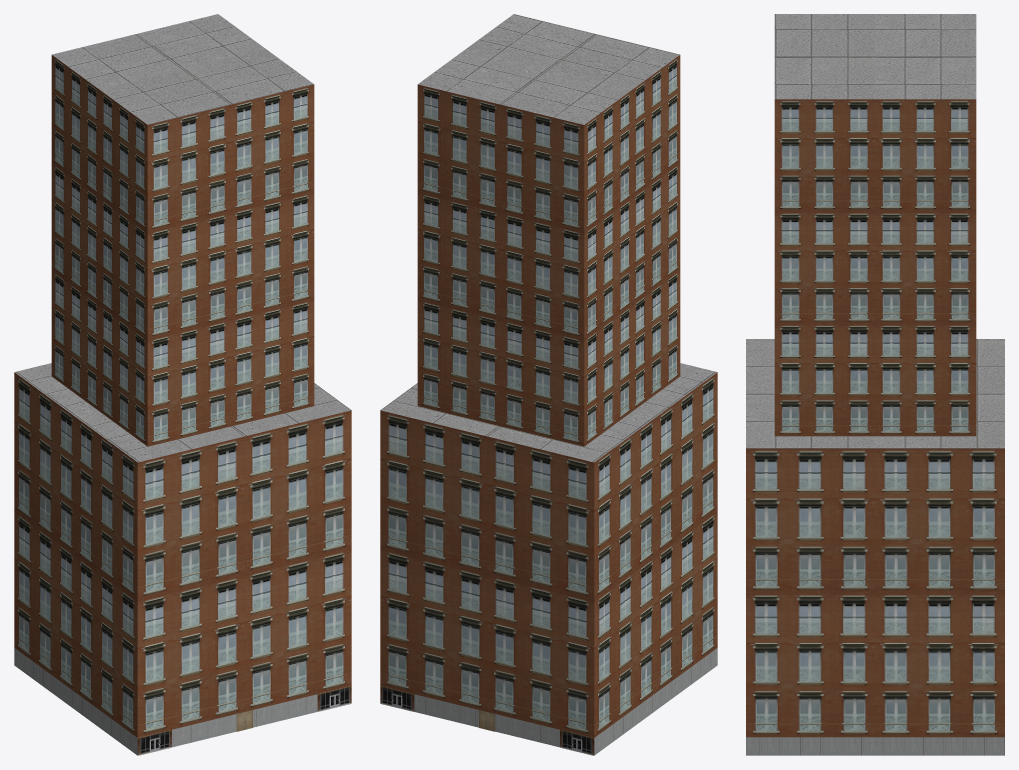
The model's file is Building07.fbx.
The picture shows the model from 3 angles, left to right: view 1: azimuth 30°, elevation 25°; view 2: azimuth 150°, elevation 25°; view 3: azimuth 270°, elevation 25°; orthographic projection. The views are drawn at different scales.
Visible parts, largest first — view 1: Building07; view 2: Building07; view 3: Building07.
Part boxes in pixels (x1,y1,x2,y2): Building07: (14, 14, 351, 755); Building07: (380, 14, 717, 755); Building07: (746, 14, 1004, 755).
Size of the model in its own units: 31.55 by 86.65 by 31.55.
